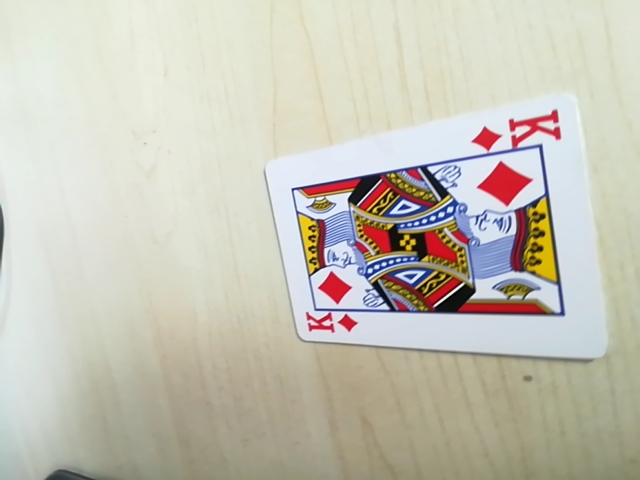fk k: (473, 107, 566, 155), (299, 308, 360, 341)
